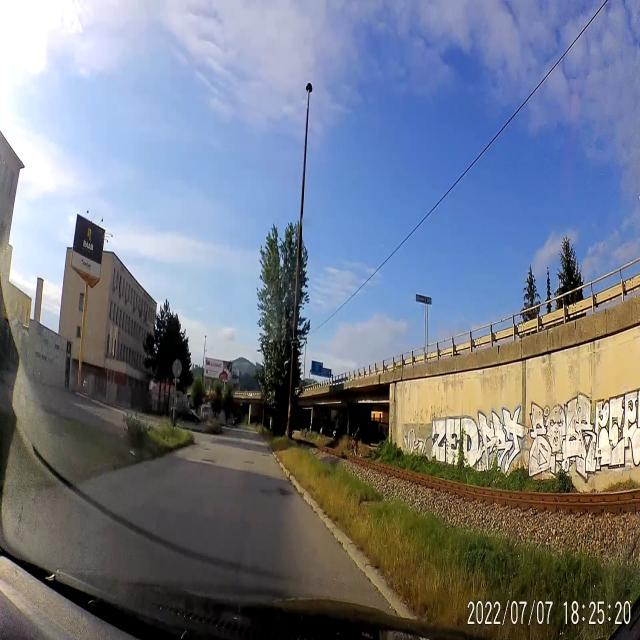Pothole: (260, 480, 294, 505)
